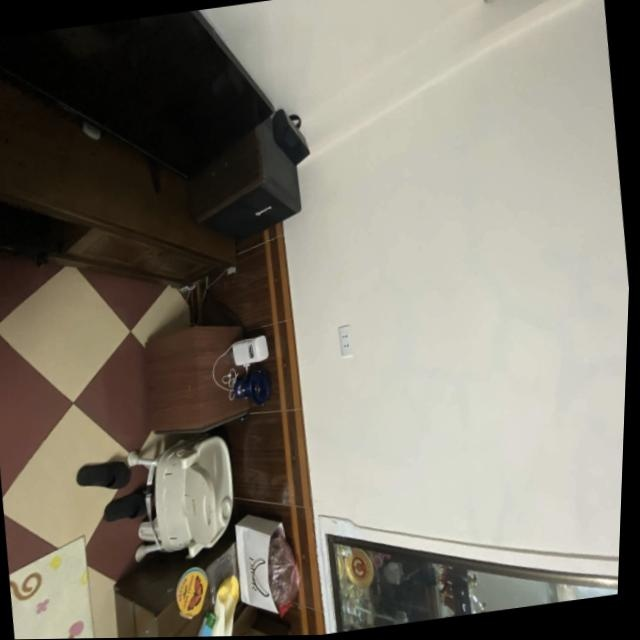outlet: (336, 324, 355, 357)
